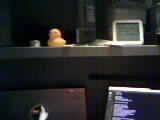duck: (40, 21, 65, 48)
